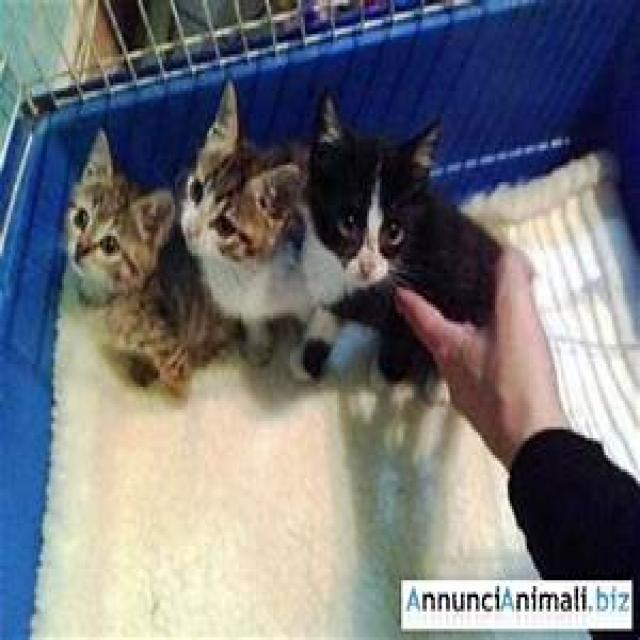animal: (303, 114, 508, 404), (184, 88, 322, 357), (71, 148, 193, 381)
